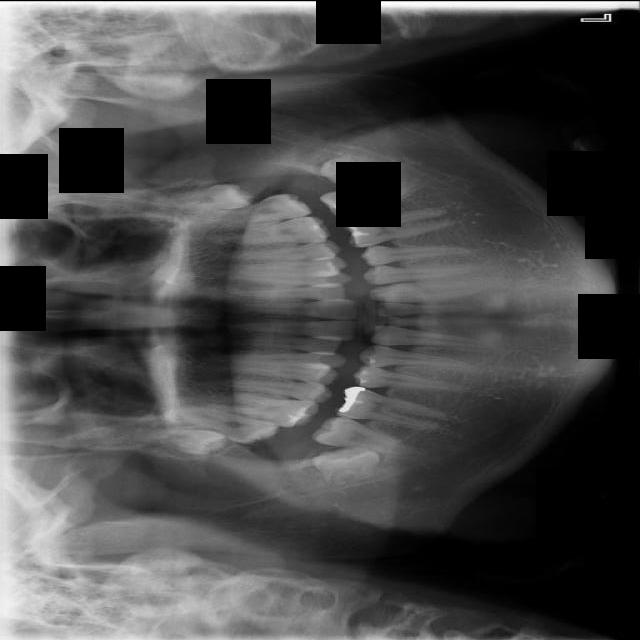3M ESPE Implant: (132, 422, 228, 457)
52: (331, 377, 382, 430), (264, 398, 320, 428), (342, 213, 382, 250)
73: (588, 50, 598, 54)
BioHorizons Implant: (219, 189, 313, 228)
BioLife Implant: (154, 183, 255, 208)
Biomet 3i Implant: (316, 136, 392, 204)
Blue Sky Bio Implant: (318, 176, 417, 224)
Caries: (177, 401, 281, 451)
Implant: (311, 412, 409, 456)
Keystone Dental Implant: (311, 442, 382, 488)
